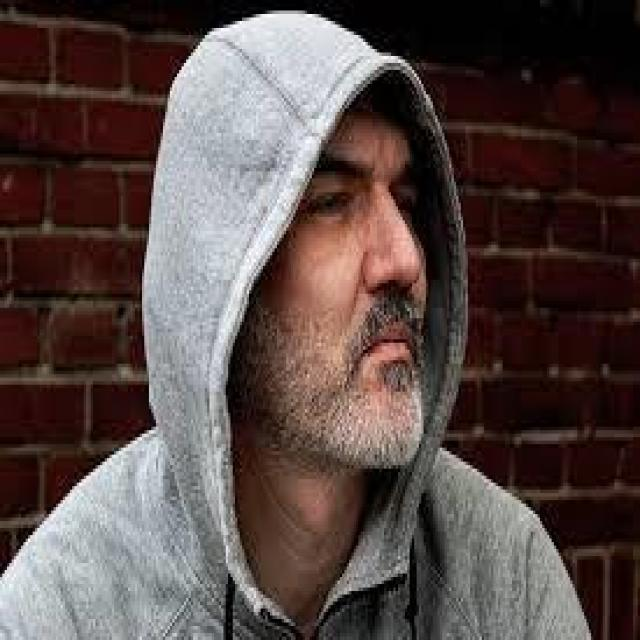person: (89, 3, 564, 594)
